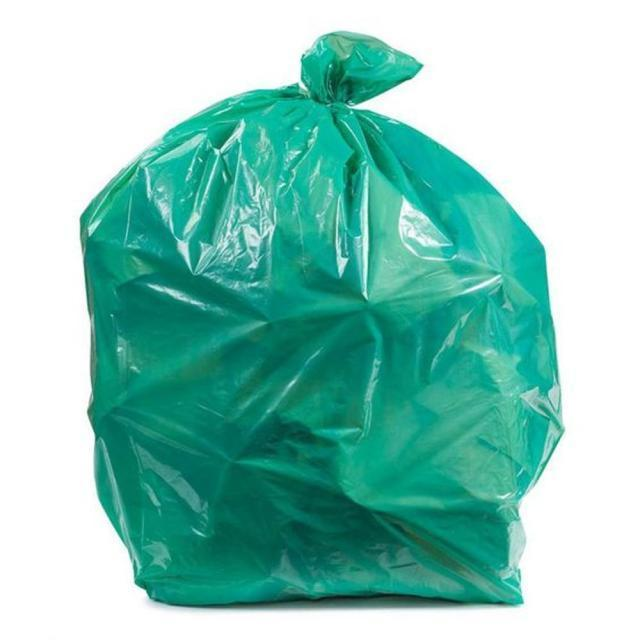Garbage_Bag: (74, 22, 554, 614)
